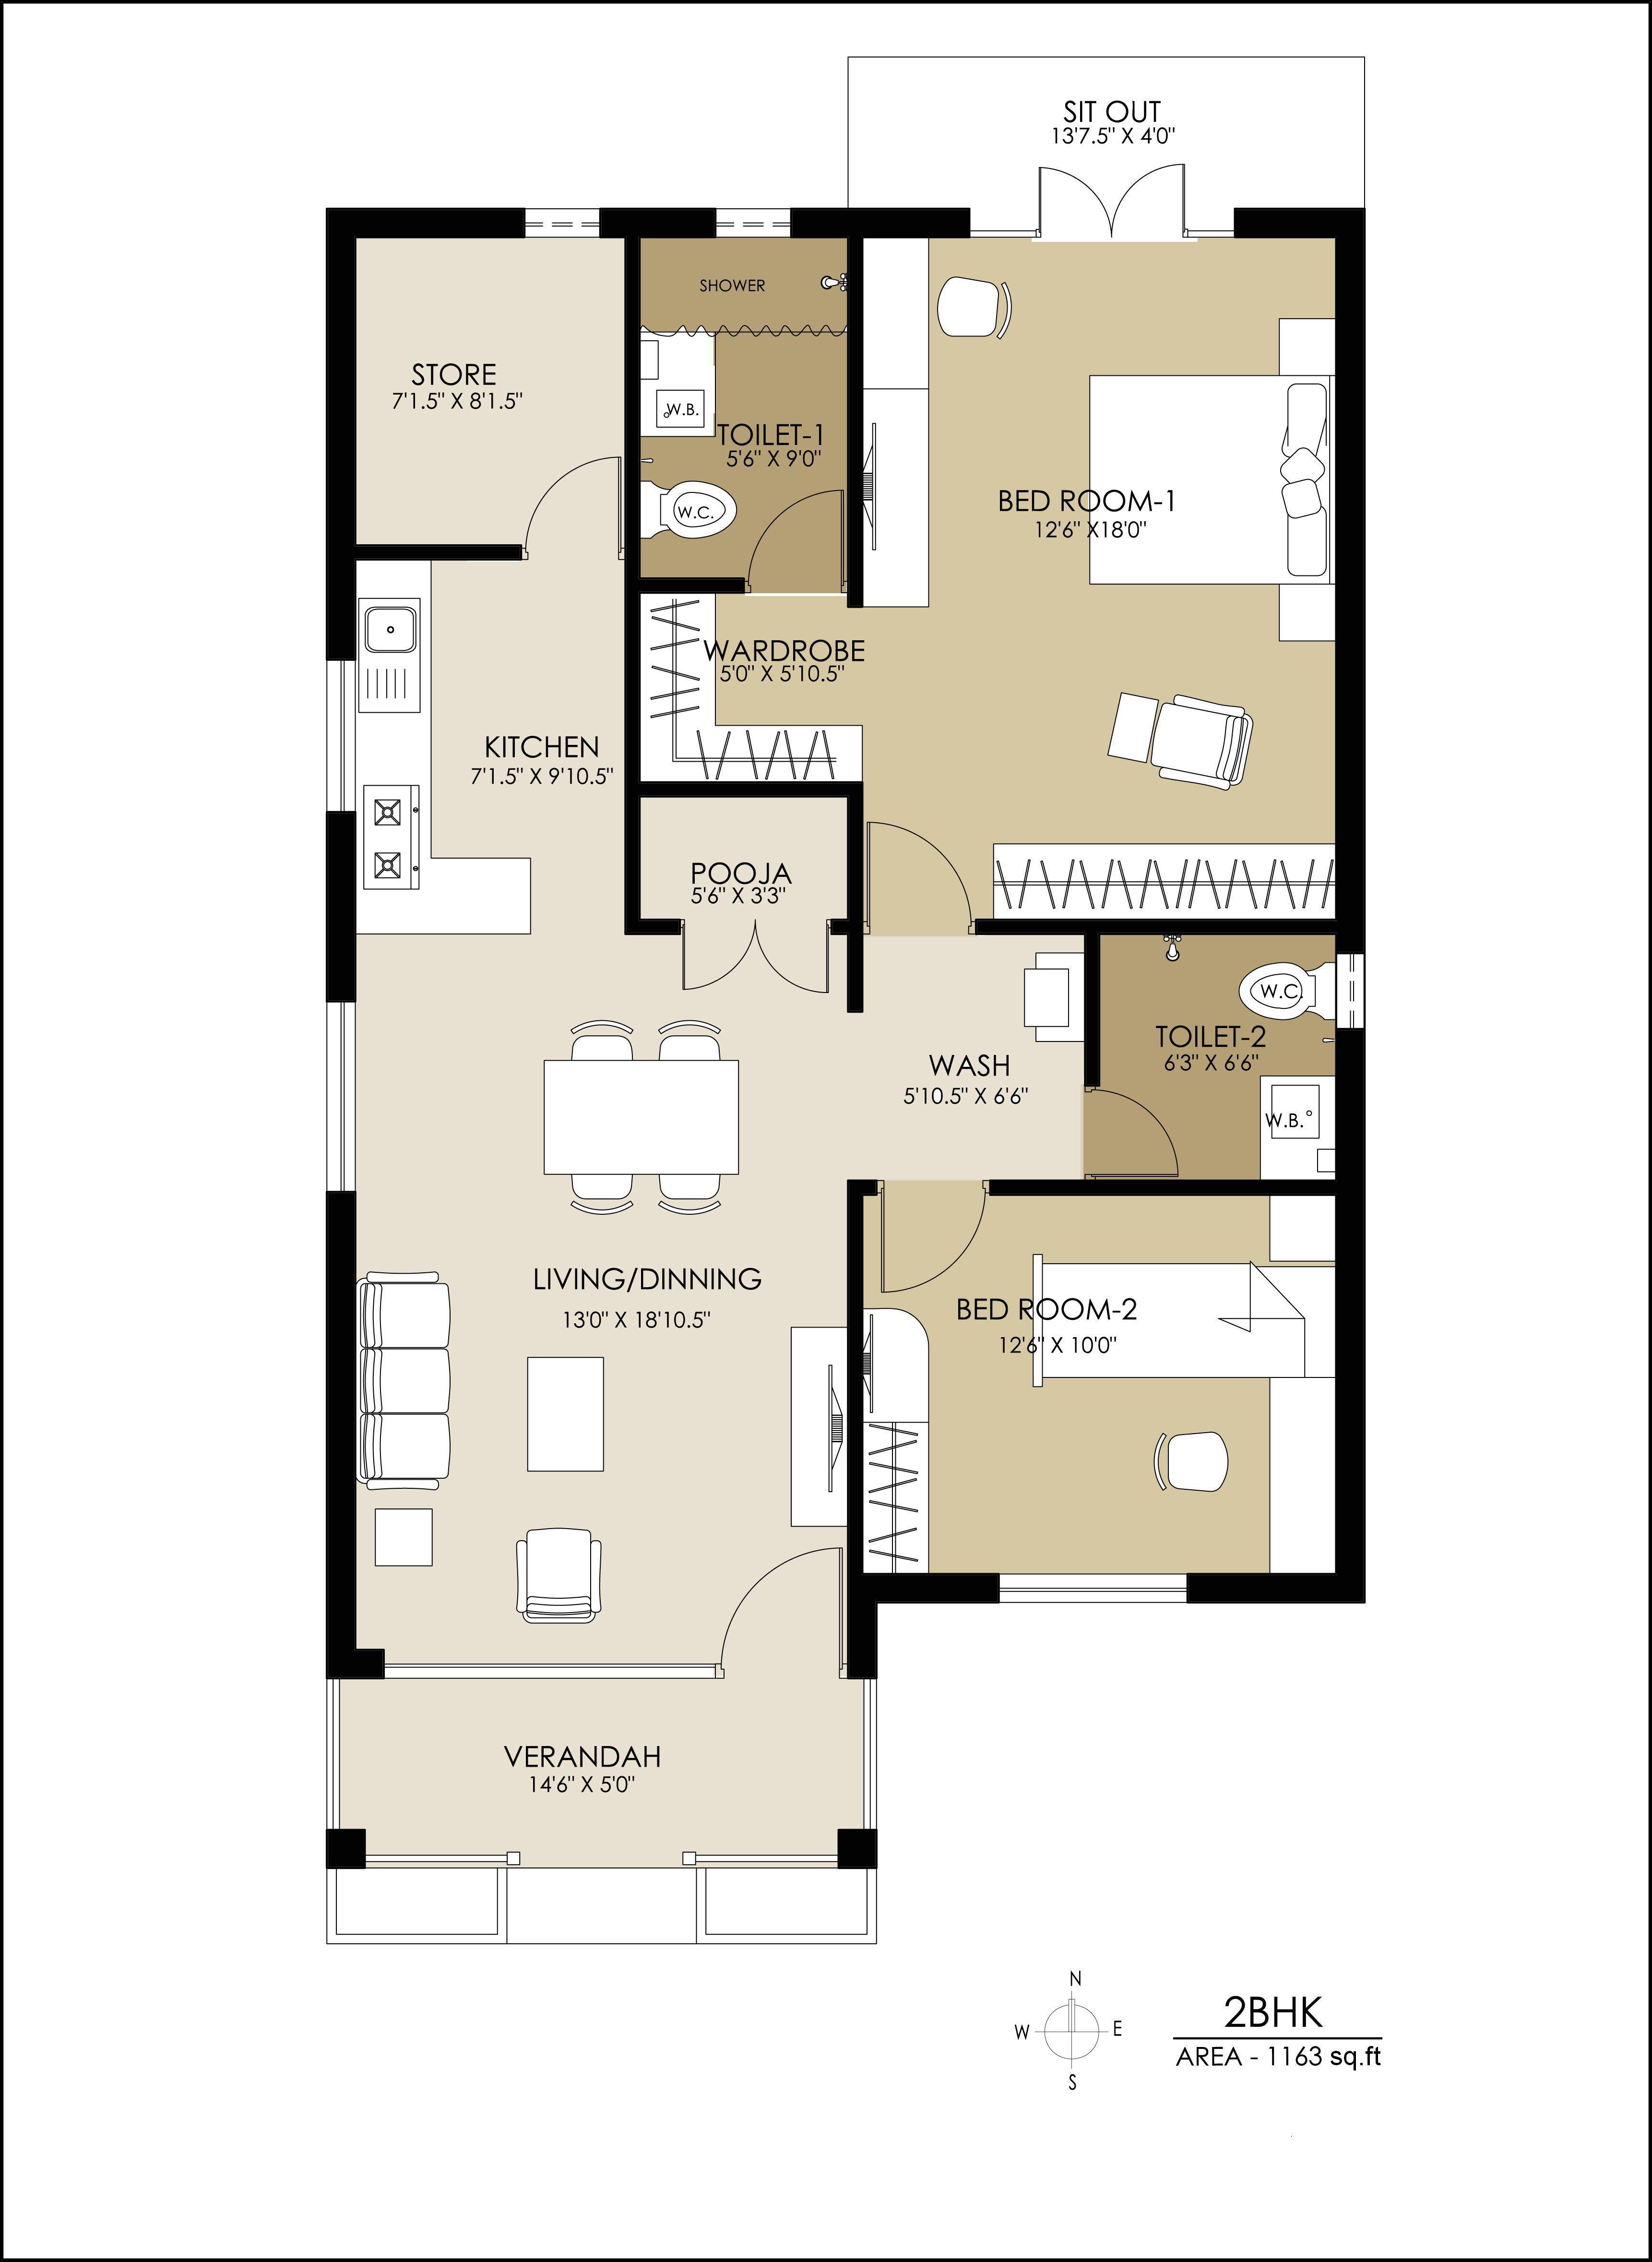window: (995, 1568, 1190, 1607), (323, 998, 360, 1198), (325, 657, 358, 817)
